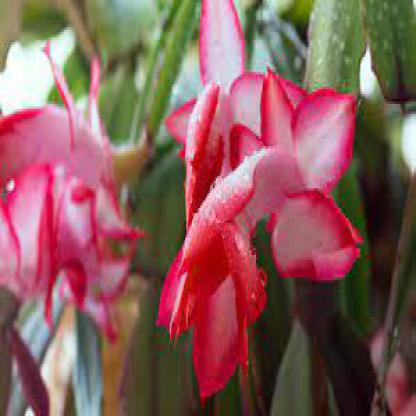Aglonema: (52, 44, 361, 385)
